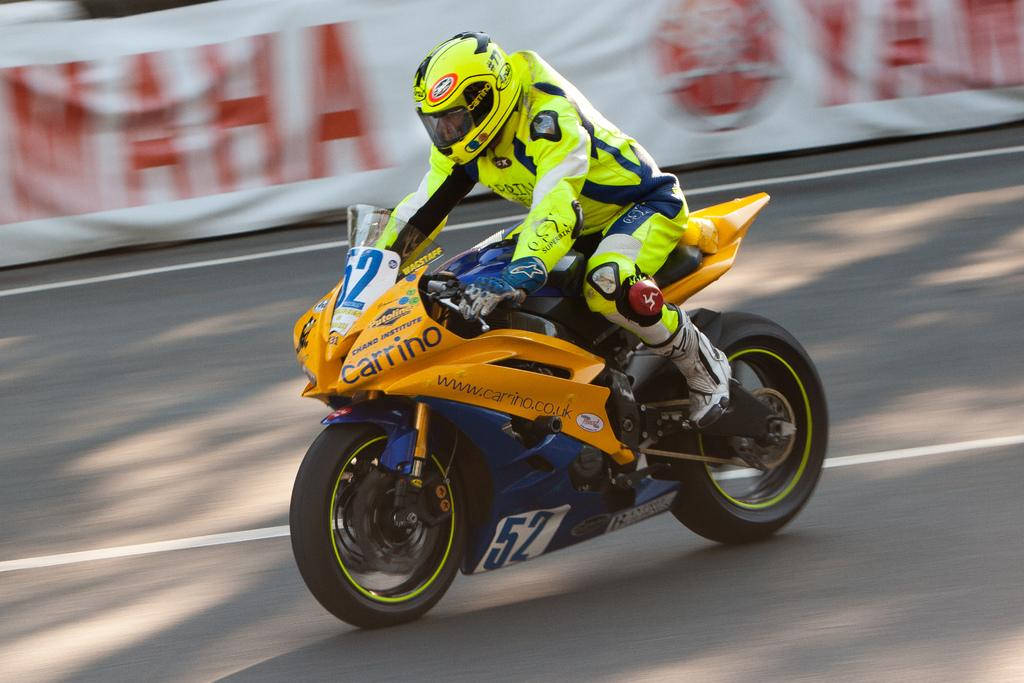helmet: (412, 30, 522, 167)
